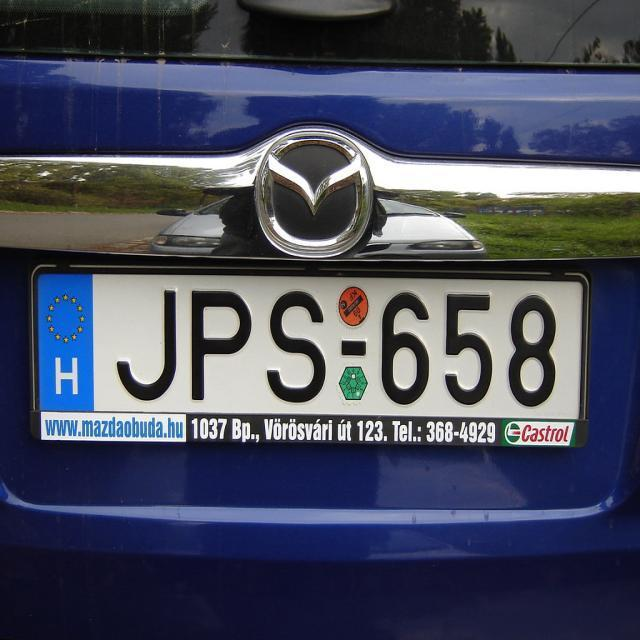licence: (23, 257, 590, 458)
